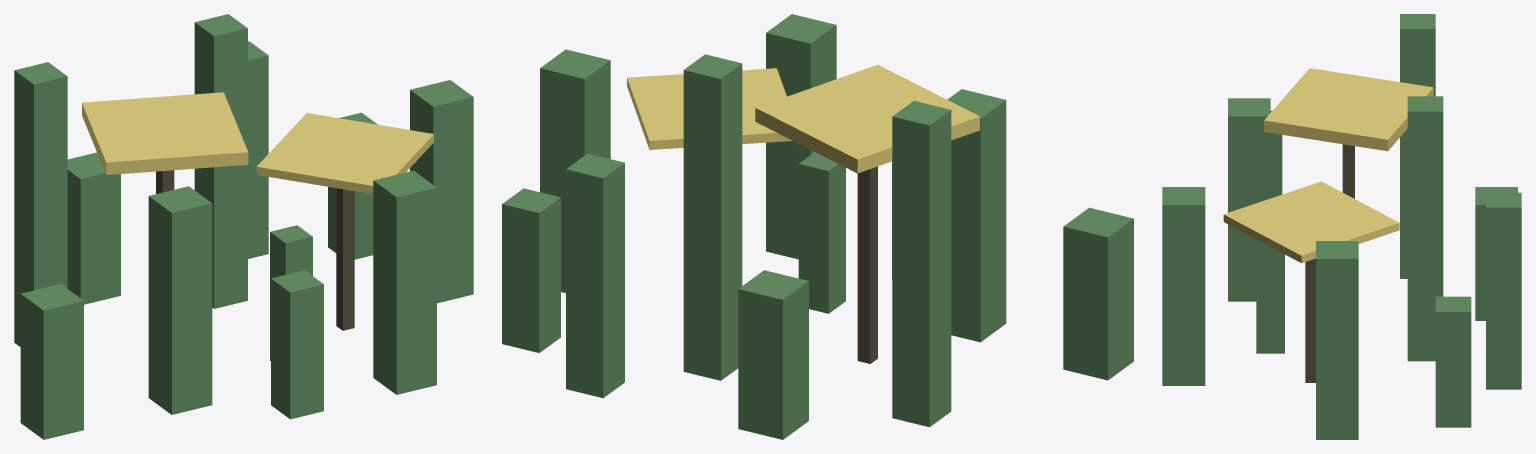
Rendered from PlantD_002.fbx.
3 views of the same model, side by side, from view 1: azimuth 30°, elevation 25°; view 2: azimuth 150°, elevation 25°; view 3: azimuth 270°, elevation 25° (orthographic). The views are drawn at different scales.
Parts seen in each view (by area): view 1: PlantD_002; view 2: PlantD_002; view 3: PlantD_002.
Part boxes in pixels (x1,y1,x2,y2): PlantD_002: (14,14,473,439); PlantD_002: (502,14,1133,439); PlantD_002: (1162,14,1521,439).
Bounding box in the file's own units: 0.4647 × 0.2567 × 0.3344.
